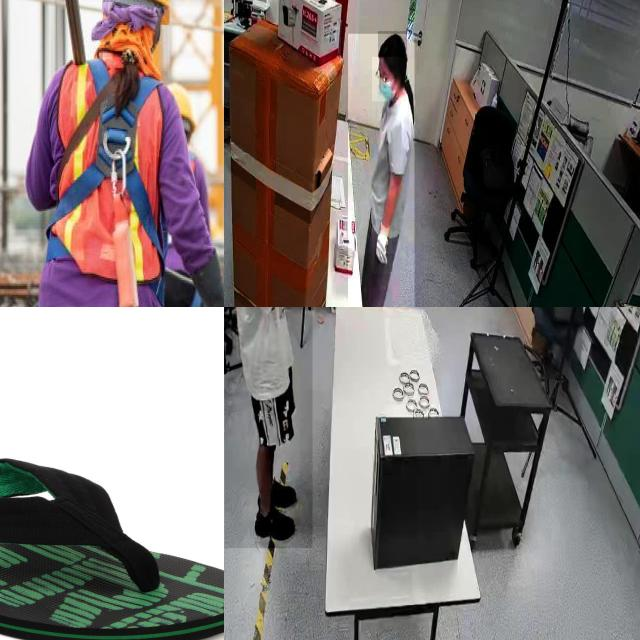Harness: (32, 56, 165, 307)
Sandals: (0, 446, 224, 640)
face_mask: (372, 57, 400, 101)
hand_glove: (372, 225, 392, 275)
head_nohelmet: (378, 31, 408, 58)
person: (224, 307, 313, 549), (348, 33, 415, 307)
shoes: (253, 504, 300, 546), (252, 472, 299, 510)
